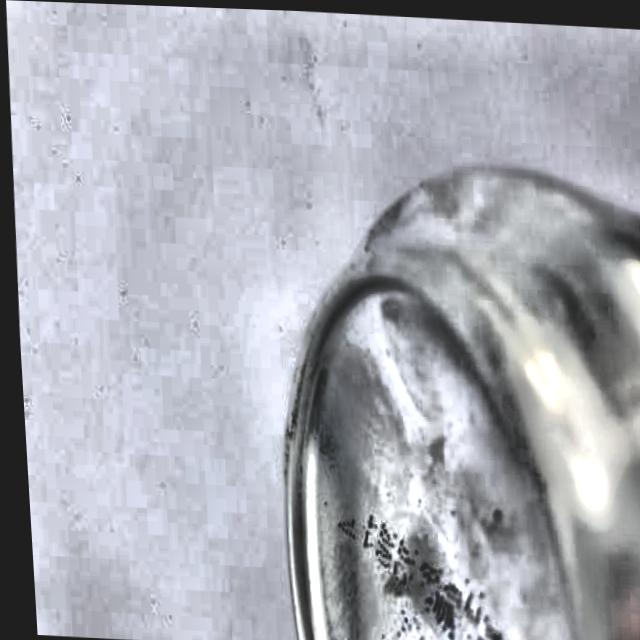Cans: (252, 132, 640, 640)
